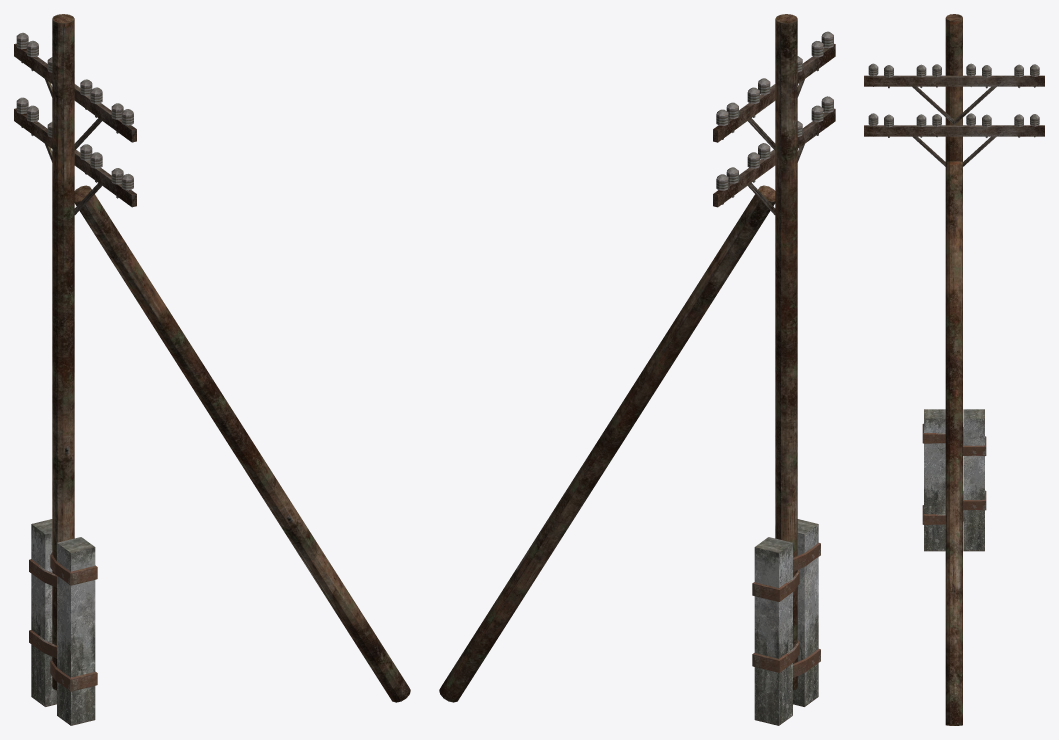
The model's file is lampOld_04.glb.
The picture shows the model from 3 angles, left to right: view 1: azimuth 30°, elevation 25°; view 2: azimuth 150°, elevation 25°; view 3: azimuth 270°, elevation 25°; orthographic projection. The views are drawn at different scales.
Visible parts, largest first — view 1: geometry_0; view 2: geometry_0; view 3: geometry_0.
Boxes of the visible parts, x1,y1,x2,y2 form: geometry_0: (14,14,410,725); geometry_0: (439,14,835,725); geometry_0: (864,14,1044,725).
Size of the model in its own units: 3.7 by 7.5 by 2.1.
Materials: 1 (1 with a texture image).
